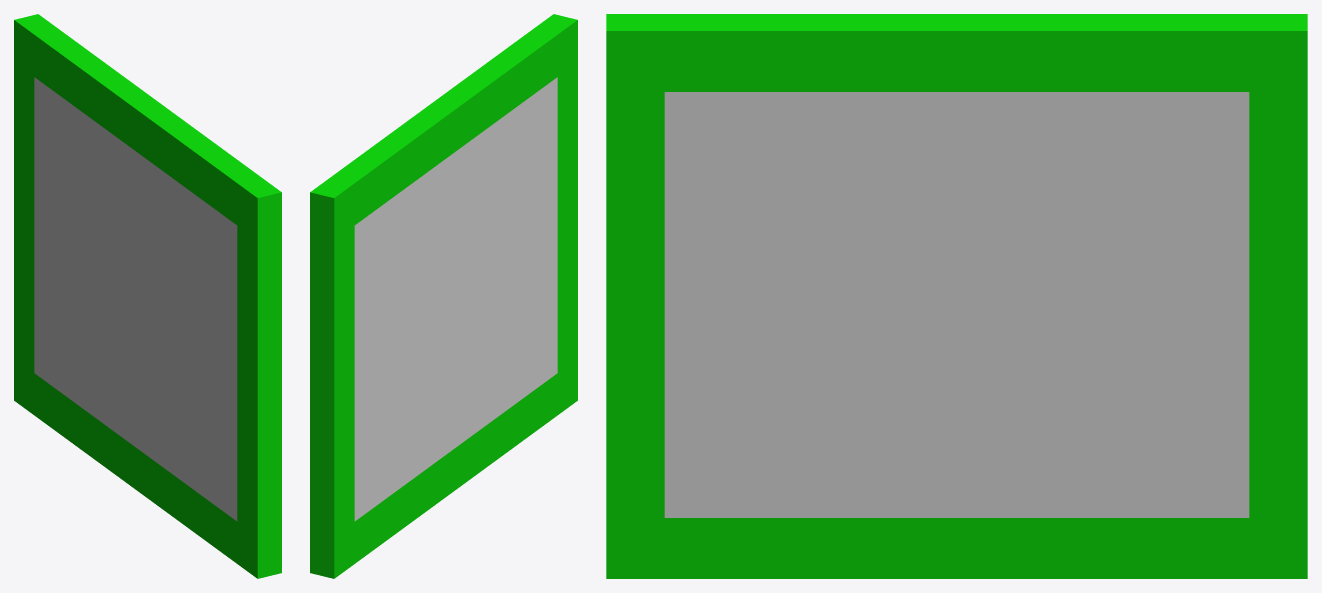
File: jampeili.fbx
3 views of the same model, side by side, from view 1: azimuth 30°, elevation 25°; view 2: azimuth 150°, elevation 25°; view 3: azimuth 270°, elevation 25° (orthographic). The views are drawn at different scales.
Visible parts, largest first — view 1: Cube; view 2: Cube; view 3: Cube.
Boxes of the visible parts, <box> form: Cube: <box>14,14,281,578</box>; Cube: <box>310,14,577,578</box>; Cube: <box>606,14,1307,578</box>.
Size of the model in its own units: 19.14 by 288 by 334.
